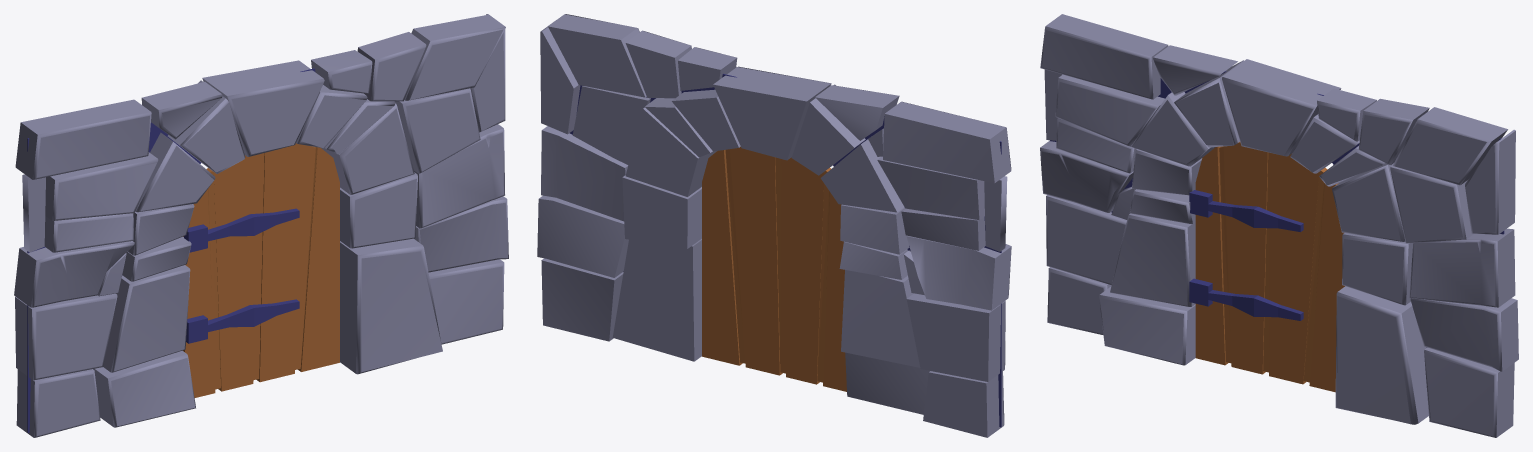
The model's file is door_small_wall.fbx.
The picture shows the model from 3 angles, left to right: view 1: azimuth 30°, elevation 25°; view 2: azimuth 150°, elevation 25°; view 3: azimuth 330°, elevation 25°; orthographic projection. The views are drawn at different scales.
Visible parts, largest first — view 1: Cube.002; view 2: Cube.002; view 3: Cube.002.
Part boxes in pixels (x1,y1,x2,y2): Cube.002: [14, 14, 508, 437]; Cube.002: [537, 14, 1011, 437]; Cube.002: [1040, 14, 1518, 437].
Size of the model in its own units: 616 by 385 by 85.78.
